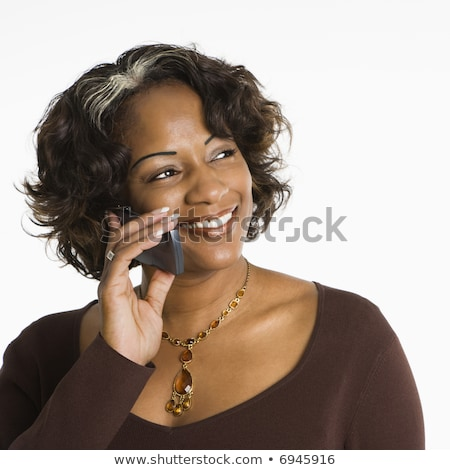phone: (94, 205, 197, 284)
talk: (91, 122, 257, 330)
